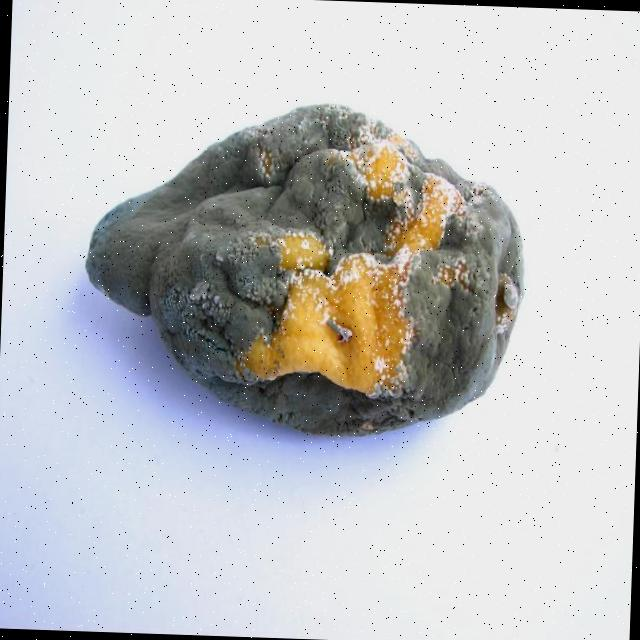Rotten: (76, 96, 529, 446)
